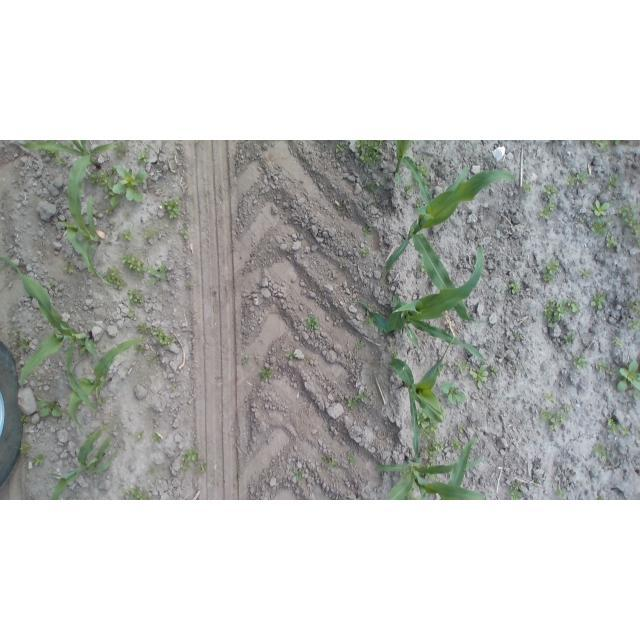Maize: (386, 168, 517, 323), (349, 244, 486, 365), (1, 257, 98, 410), (55, 151, 113, 285), (67, 337, 145, 427), (388, 355, 445, 457), (374, 456, 485, 500), (49, 423, 111, 500), (20, 140, 114, 170), (394, 140, 432, 205), (450, 436, 477, 487)
Weeds: (112, 165, 149, 202), (355, 141, 383, 168), (544, 297, 566, 331), (617, 361, 640, 392), (617, 204, 640, 235), (418, 407, 439, 439), (441, 380, 468, 404), (539, 410, 567, 433), (121, 254, 145, 277), (468, 364, 488, 391), (104, 267, 128, 289), (607, 416, 632, 437), (152, 325, 175, 347), (542, 257, 561, 283), (104, 178, 120, 208), (590, 216, 614, 236), (38, 399, 63, 417), (163, 198, 182, 221), (182, 449, 199, 474), (425, 439, 443, 462), (538, 200, 557, 221), (148, 264, 167, 284), (594, 443, 611, 465), (123, 488, 153, 500), (506, 480, 523, 500), (591, 198, 609, 216), (114, 142, 131, 159), (127, 288, 142, 306), (306, 313, 319, 333), (608, 172, 621, 192), (590, 292, 606, 308), (542, 182, 558, 198), (90, 172, 109, 185), (455, 358, 470, 374), (573, 353, 587, 370), (342, 450, 356, 467), (137, 322, 151, 338), (258, 367, 272, 383), (567, 299, 581, 314), (508, 279, 521, 295), (321, 455, 338, 467), (591, 141, 609, 152), (595, 359, 609, 373), (291, 466, 304, 481), (336, 200, 347, 217), (563, 331, 576, 345), (365, 181, 378, 194), (606, 235, 618, 249), (361, 224, 373, 238), (19, 443, 31, 456), (32, 454, 45, 466), (578, 269, 592, 280), (347, 396, 358, 410), (577, 171, 588, 185), (630, 299, 640, 314), (63, 261, 75, 273), (135, 345, 146, 358), (365, 200, 378, 211), (357, 390, 368, 403), (369, 357, 379, 371), (418, 163, 428, 177), (137, 151, 148, 163), (565, 175, 576, 187), (556, 488, 567, 500), (404, 181, 413, 195), (56, 155, 67, 166), (543, 393, 554, 404), (628, 320, 640, 330), (362, 316, 374, 326), (241, 354, 251, 366), (122, 229, 131, 242), (452, 438, 461, 451), (147, 356, 158, 366), (19, 339, 30, 349), (336, 140, 345, 152), (423, 474, 436, 482), (145, 229, 155, 239), (521, 181, 531, 191), (612, 338, 623, 347), (286, 351, 297, 360), (151, 433, 160, 443), (97, 397, 107, 406), (148, 464, 156, 475), (490, 365, 498, 376), (200, 460, 207, 472), (127, 310, 136, 319), (180, 230, 188, 240), (362, 247, 370, 257), (414, 199, 423, 207), (420, 259, 425, 273), (304, 355, 311, 365), (400, 470, 407, 480), (47, 152, 60, 157), (564, 403, 572, 411), (136, 430, 144, 438), (357, 340, 364, 349), (611, 140, 621, 146), (111, 165, 118, 173), (633, 393, 640, 401), (49, 279, 56, 287), (77, 284, 84, 292), (392, 348, 399, 356), (368, 374, 375, 382), (459, 424, 466, 432), (514, 332, 521, 340), (339, 262, 346, 269), (580, 215, 586, 223), (535, 479, 540, 488), (609, 369, 615, 376), (13, 329, 20, 335), (425, 181, 431, 188), (106, 210, 114, 215), (21, 415, 26, 423), (424, 464, 434, 468), (443, 362, 449, 368), (421, 154, 427, 160), (185, 284, 192, 289), (87, 433, 94, 438), (172, 384, 177, 391), (324, 427, 329, 434), (598, 495, 604, 500), (126, 212, 131, 217), (146, 144, 151, 149), (499, 398, 504, 403), (636, 239, 640, 245), (110, 452, 116, 456), (513, 365, 518, 369), (205, 191, 209, 195), (13, 342, 17, 346), (520, 222, 524, 226), (416, 181, 419, 186), (428, 141, 432, 144), (47, 141, 56, 142), (362, 498, 366, 500)
